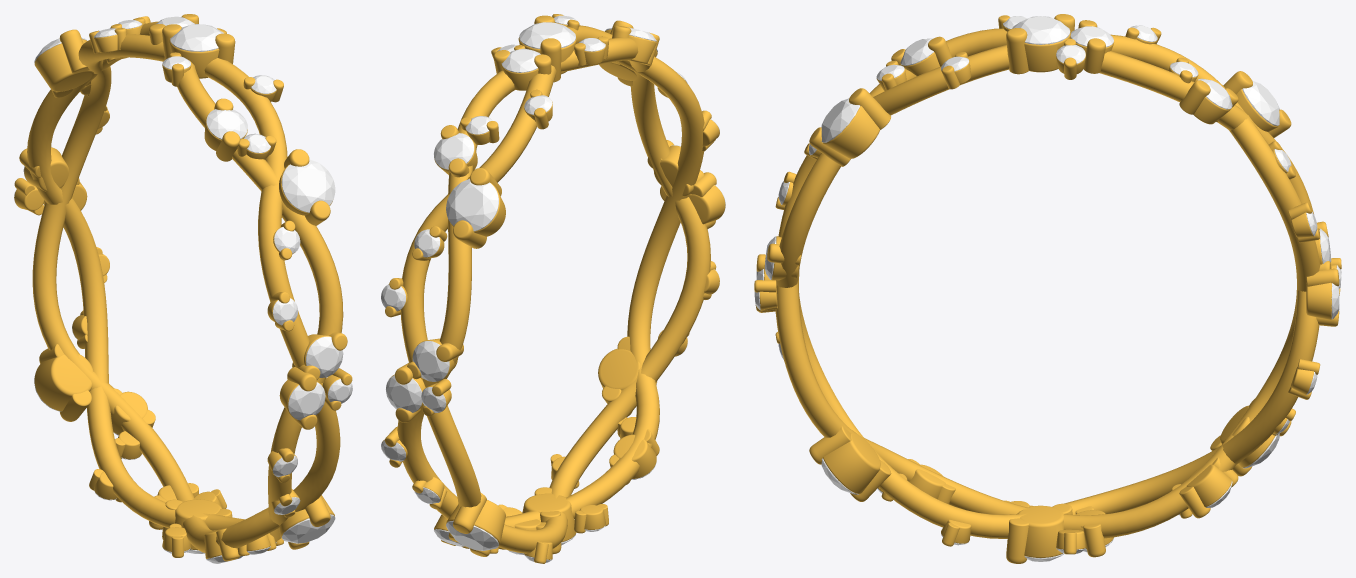
File: doble.glb
3 views of the same model, side by side, from view 1: azimuth 30°, elevation 25°; view 2: azimuth 150°, elevation 25°; view 3: azimuth 270°, elevation 25° (orthographic). The views are drawn at different scales.
Visible parts, largest first — view 1: base_doble_round, Round.059, Round.038, Round.061, Round.062, Round.047, Round.100, Round.058, Round.060, Round.063; view 2: base_doble_round, Round.052, Round.038, Round.054, Round.048, Round.055, Round.097, Round.040, Round.050, Round.053, Round.057; view 3: base_doble_round, Round.038, Round.059, Round.052.
Part boxes in pixels (x1=…): base_doble_round: x1=14, y1=14, x2=352, y2=561; Round.059: x1=281, y1=159, x2=335, y2=212; Round.038: x1=170, y1=24, x2=223, y2=51; Round.061: x1=305, y1=336, x2=343, y2=377; Round.062: x1=288, y1=382, x2=325, y2=420; Round.047: x1=206, y1=109, x2=247, y2=139; Round.100: x1=281, y1=514, x2=335, y2=543; Round.058: x1=274, y1=227, x2=300, y2=253; Round.060: x1=272, y1=298, x2=297, y2=325; Round.063: x1=327, y1=379, x2=352, y2=403; base_doble_round: x1=382, y1=14, x2=725, y2=563; Round.052: x1=446, y1=179, x2=498, y2=231; Round.038: x1=519, y1=22, x2=575, y2=48; Round.054: x1=412, y1=341, x2=449, y2=381; Round.048: x1=434, y1=133, x2=474, y2=169; Round.055: x1=386, y1=375, x2=422, y2=412; Round.097: x1=446, y1=520, x2=498, y2=550; Round.040: x1=501, y1=48, x2=540, y2=72; Round.050: x1=414, y1=229, x2=440, y2=257; Round.053: x1=381, y1=284, x2=405, y2=310; Round.057: x1=421, y1=387, x2=446, y2=412; base_doble_round: x1=754, y1=14, x2=1341, y2=563; Round.038: x1=1012, y1=16, x2=1070, y2=44; Round.059: x1=821, y1=98, x2=859, y2=142; Round.052: x1=1242, y1=80, x2=1279, y2=125.
Bounding box in the file's own units: 0.00397 × 0.02 × 0.02.
